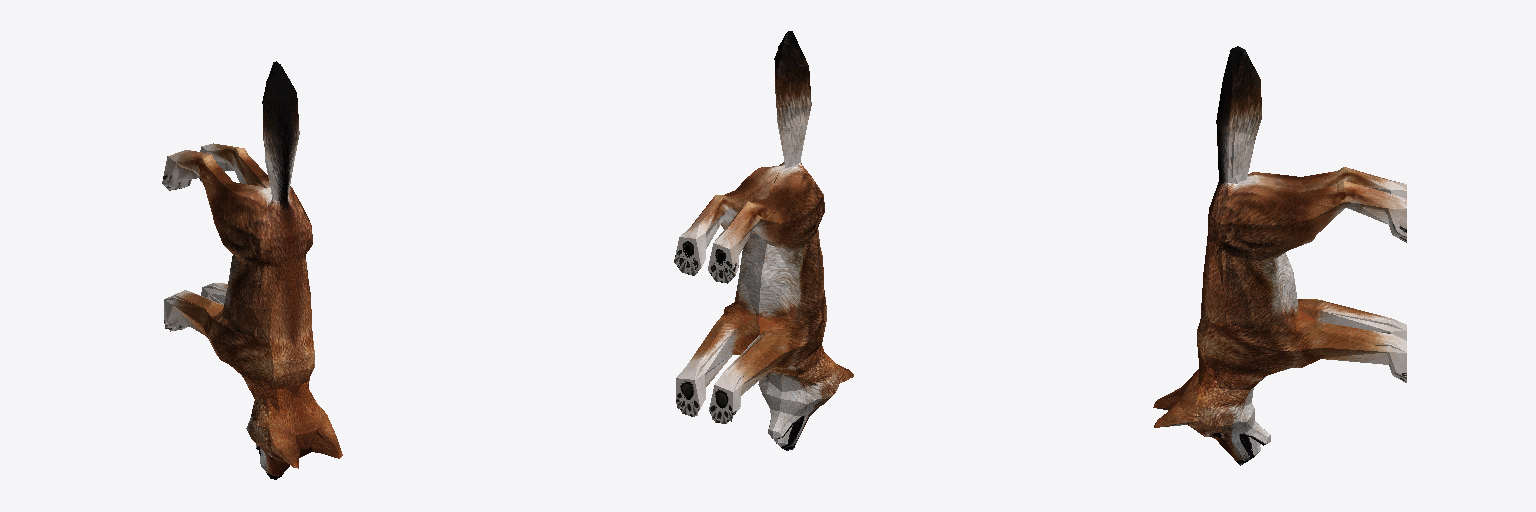
The picture shows the model from 3 angles: view 1: azimuth 30°, elevation 25°; view 2: azimuth 150°, elevation 25°; view 3: azimuth 270°, elevation 25°; orthographic projection.
Visible parts, largest first — view 1: WolfEthiopian_Adult_M_LOD1:0, WolfEthiopian_Adult_M_LOD0:0, PolyMesh; view 2: WolfEthiopian_Adult_M_LOD1:0, WolfEthiopian_Adult_M_LOD0:0, PolyMesh; view 3: WolfEthiopian_Adult_M_LOD1:0, WolfEthiopian_Adult_M_LOD0:0, PolyMesh.
Boxes of the visible parts, x1=… form: WolfEthiopian_Adult_M_LOD1:0: x1=162, y1=61, x2=342, y2=473; WolfEthiopian_Adult_M_LOD0:0: x1=164, y1=67, x2=342, y2=479; PolyMesh: x1=165, y1=74, x2=327, y2=479; WolfEthiopian_Adult_M_LOD1:0: x1=674, y1=31, x2=853, y2=445; WolfEthiopian_Adult_M_LOD0:0: x1=675, y1=34, x2=853, y2=449; PolyMesh: x1=676, y1=40, x2=841, y2=450; WolfEthiopian_Adult_M_LOD1:0: x1=1154, y1=46, x2=1406, y2=460; WolfEthiopian_Adult_M_LOD0:0: x1=1153, y1=51, x2=1406, y2=464; PolyMesh: x1=1155, y1=58, x2=1406, y2=465.
Size of the model in its own units: 0.4355 by 2.09 by 1.14.
5 materials, 2 textured.